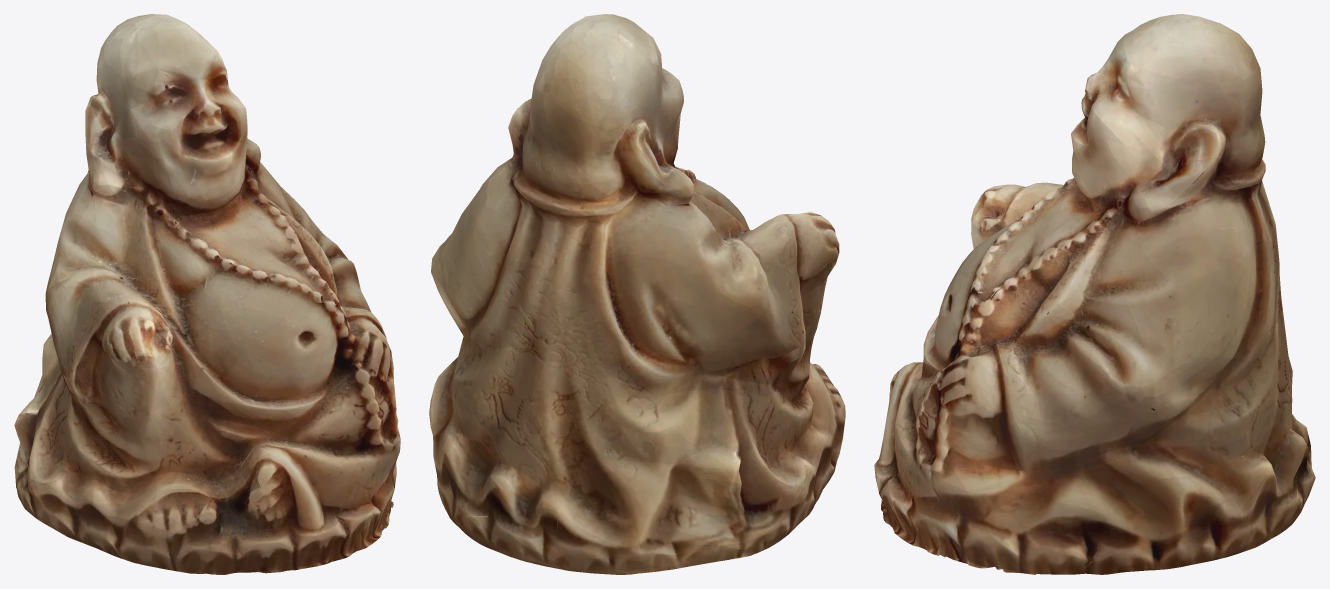
File: arhat-budai.glb
3 views of the same model, side by side, from view 1: azimuth 30°, elevation 25°; view 2: azimuth 150°, elevation 25°; view 3: azimuth 270°, elevation 25° (orthographic). The views are drawn at different scales.
Visible parts, largest first — view 1: arhat-budai; view 2: arhat-budai; view 3: arhat-budai.
Part boxes in pixels (box(x1,y1,x2,y2)): arhat-budai: box(14, 14, 400, 574); arhat-budai: box(429, 14, 845, 574); arhat-budai: box(874, 14, 1315, 574).
Bounding box in the file's own units: 0.7541 × 1 × 0.8373.
1 material, 1 textured.
